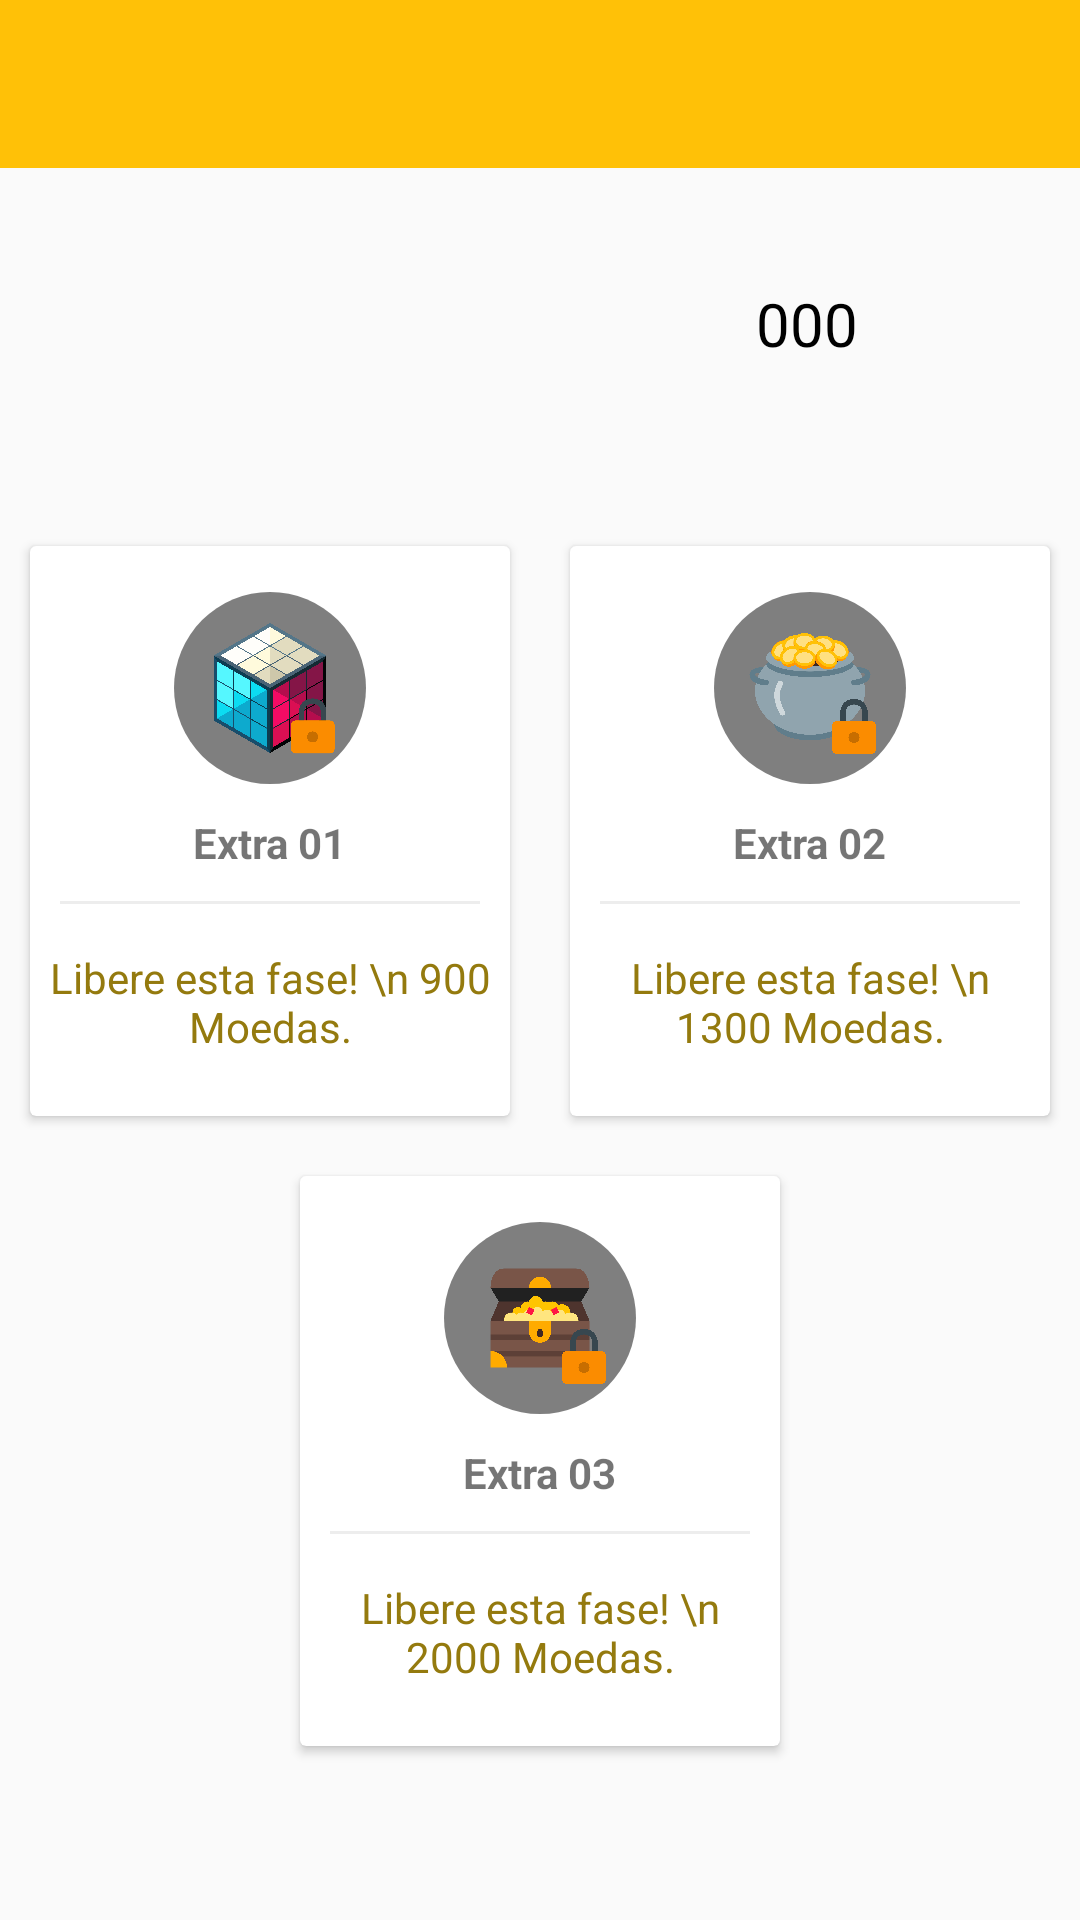

Screen size 1080 × 1920. Icon name, then its center in pixels as [x,y]:
bau close: [540,1318]
cubo close: [270,688]
pote ouro close: [810,688]
